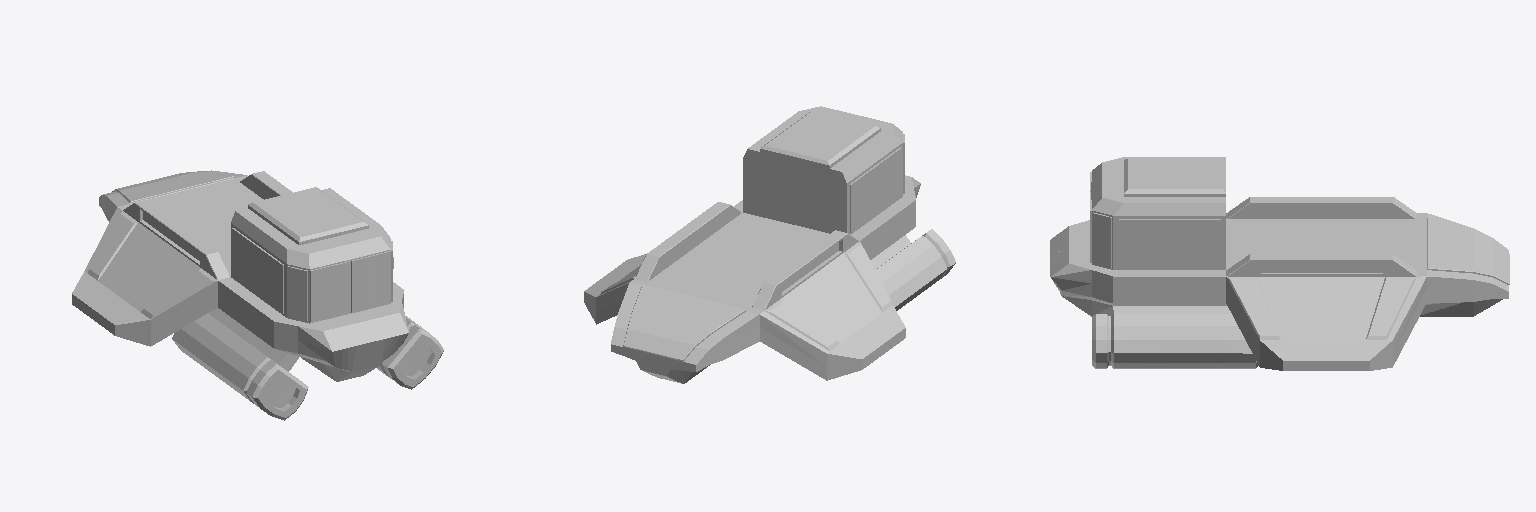
Rendered from ship floor.obj.
3 renders of one model, left to right at view 1: azimuth 30°, elevation 25°; view 2: azimuth 150°, elevation 25°; view 3: azimuth 270°, elevation 25°, orthographic.
Visible parts, largest first — view 1: shipMirror; view 2: shipMirror; view 3: shipMirror.
Boxes of the visible parts, x1,y1,x2,y2 form: shipMirror: [72, 170, 443, 420]; shipMirror: [584, 106, 955, 383]; shipMirror: [1050, 157, 1509, 370].
Bounding box in the file's own units: 10.71 × 6.03 × 15.31.